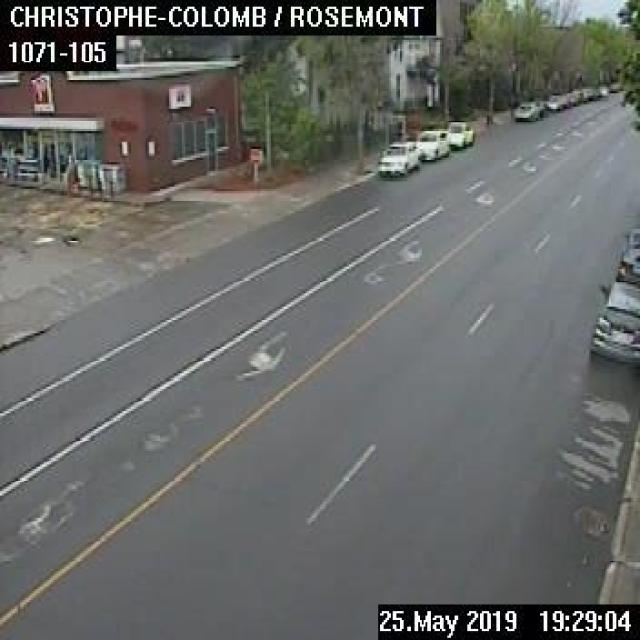vehicle: (589, 280, 638, 367), (376, 141, 417, 175), (614, 227, 638, 283), (416, 129, 448, 159), (513, 98, 545, 120), (445, 121, 472, 147), (544, 94, 568, 110)
